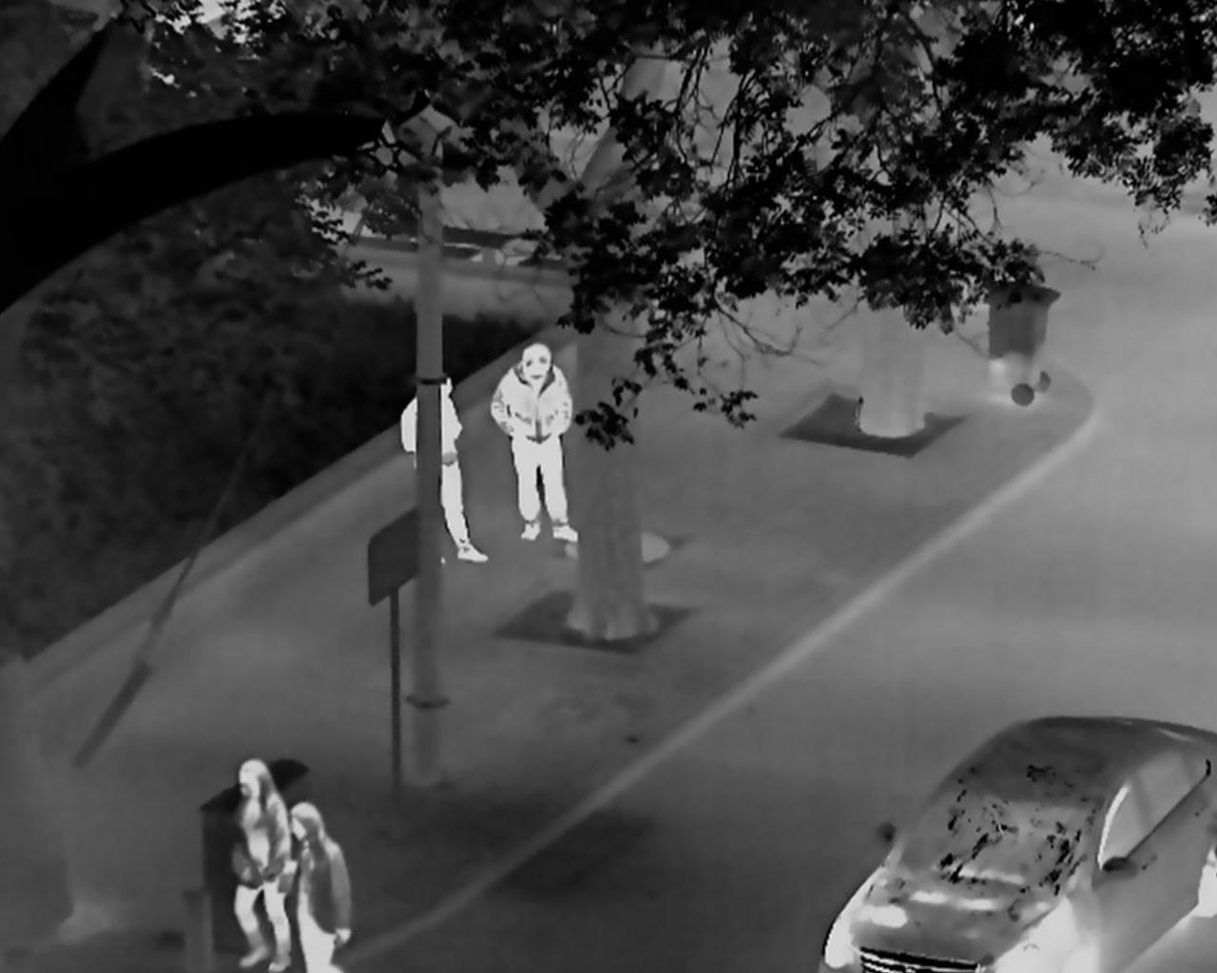person: (489, 342, 577, 546), (401, 369, 489, 564), (231, 757, 293, 973), (287, 799, 356, 973)
